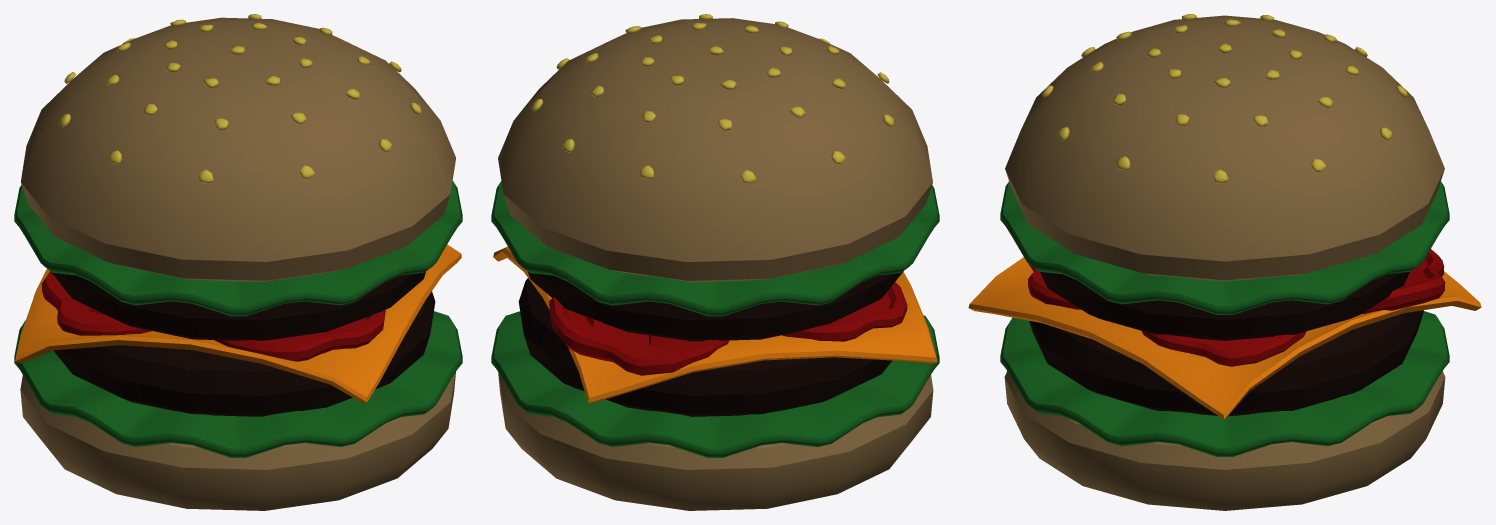
Rendered from Burger_2.FBX.
3 renders of one model, left to right at view 1: azimuth 30°, elevation 25°; view 2: azimuth 150°, elevation 25°; view 3: azimuth 270°, elevation 25°, orthographic.
Parts seen in each view (by area): view 1: Burger_2; view 2: Burger_2; view 3: Burger_2.
Boxes of the visible parts, x1,y1,x2,y2 form: Burger_2: [14, 14, 462, 510]; Burger_2: [491, 14, 939, 510]; Burger_2: [968, 14, 1481, 510].
Size of the model in its own units: 1164 by 1159 by 974.
